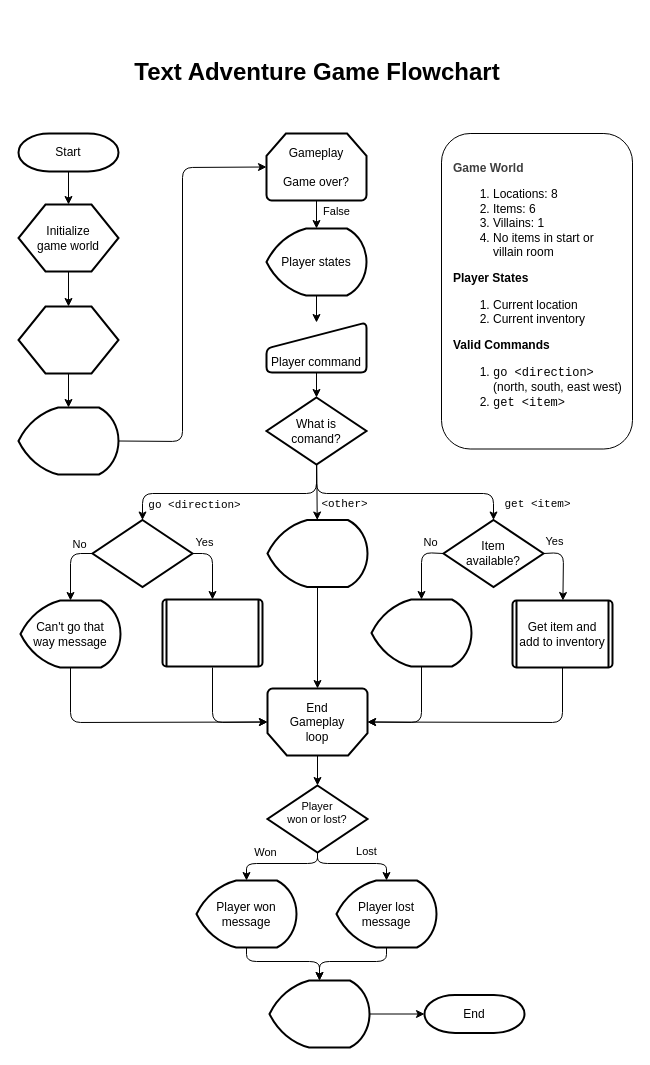
The diagram is 650 pixels wide and 1065 high, and some of its shapes have lost their labels. Here are the shapes that lost their labels. From the top down, the centre of each, then its label:
(x=68, y=339): Initialize player states
(x=68, y=440): Start of game message(s)
(x=142, y=553): Direction available?
(x=317, y=553): Invalid command message
(x=212, y=632): Move between rooms and update player location
(x=421, y=632): Item not available message
(x=319, y=1013): End of game message(s)
